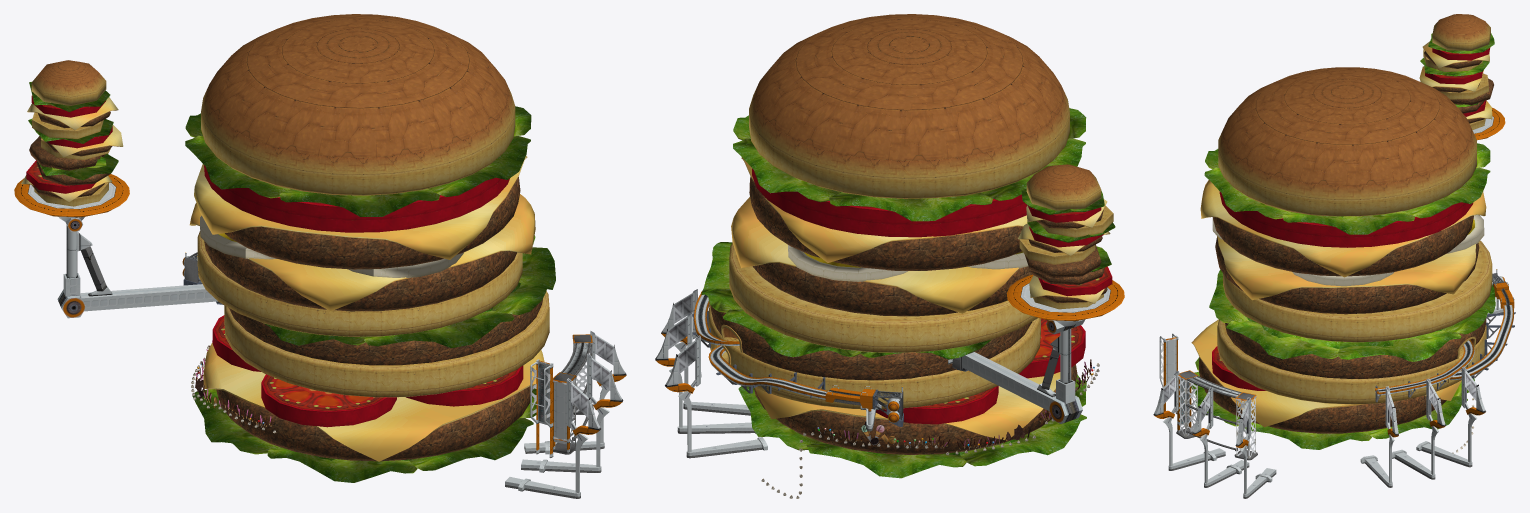
Rendered from stg210_23.obj.
The picture shows the model from 3 angles, left to right: view 1: azimuth 30°, elevation 25°; view 2: azimuth 150°, elevation 25°; view 3: azimuth 270°, elevation 25°; orthographic projection. The views are drawn at different scales.
Visible parts, largest first — view 1: polygon5, polygon4, polygon2, polygon0, polygon12, polygon86, polygon121, polygon90, polygon84, polygon122, polygon91, polygon83 (+20 smaller); view 2: polygon5, polygon4, polygon0, polygon2, polygon83, polygon84, polygon91, polygon122, polygon13, polygon87, polygon86, polygon90 (+26 smaller); view 3: polygon5, polygon4, polygon0, polygon2, polygon85, polygon13, polygon91, polygon84, polygon122, polygon87, polygon90, polygon86 (+24 smaller).
Boxes of the visible parts, x1,y1,x2,y2 form: polygon5: (207, 14, 508, 157); polygon4: (201, 81, 515, 195); polygon2: (224, 291, 549, 397); polygon0: (197, 231, 522, 336); polygon12: (203, 342, 544, 461); polygon86: (216, 386, 532, 461); polygon121: (212, 315, 523, 427); polygon90: (204, 241, 516, 311); polygon84: (185, 106, 531, 216); polygon122: (204, 165, 509, 232); polygon91: (225, 177, 520, 269); polygon83: (192, 388, 536, 482); polygon5: (756, 14, 1063, 160); polygon4: (749, 82, 1069, 198); polygon0: (729, 242, 1037, 352); polygon2: (708, 304, 1040, 409); polygon83: (738, 374, 1086, 478); polygon84: (733, 108, 1086, 221); polygon91: (749, 177, 1023, 270); polygon122: (752, 168, 1027, 237); polygon13: (731, 197, 1019, 313); polygon87: (711, 306, 1031, 380); polygon86: (754, 364, 1077, 454); polygon90: (752, 262, 1031, 316); polygon5: (1223, 67, 1471, 185); polygon4: (1218, 129, 1476, 216); polygon0: (1223, 240, 1492, 342); polygon2: (1217, 319, 1486, 404); polygon85: (1209, 269, 1495, 361); polygon13: (1217, 236, 1475, 300); polygon91: (1212, 215, 1473, 276); polygon84: (1204, 143, 1490, 234); polygon122: (1219, 191, 1473, 247); polygon87: (1225, 318, 1486, 378); polygon90: (1215, 236, 1479, 314); polygon86: (1199, 357, 1446, 433).
Size of the model in its own units: 1363 by 1088 by 1072.
44 materials, 44 textured.
